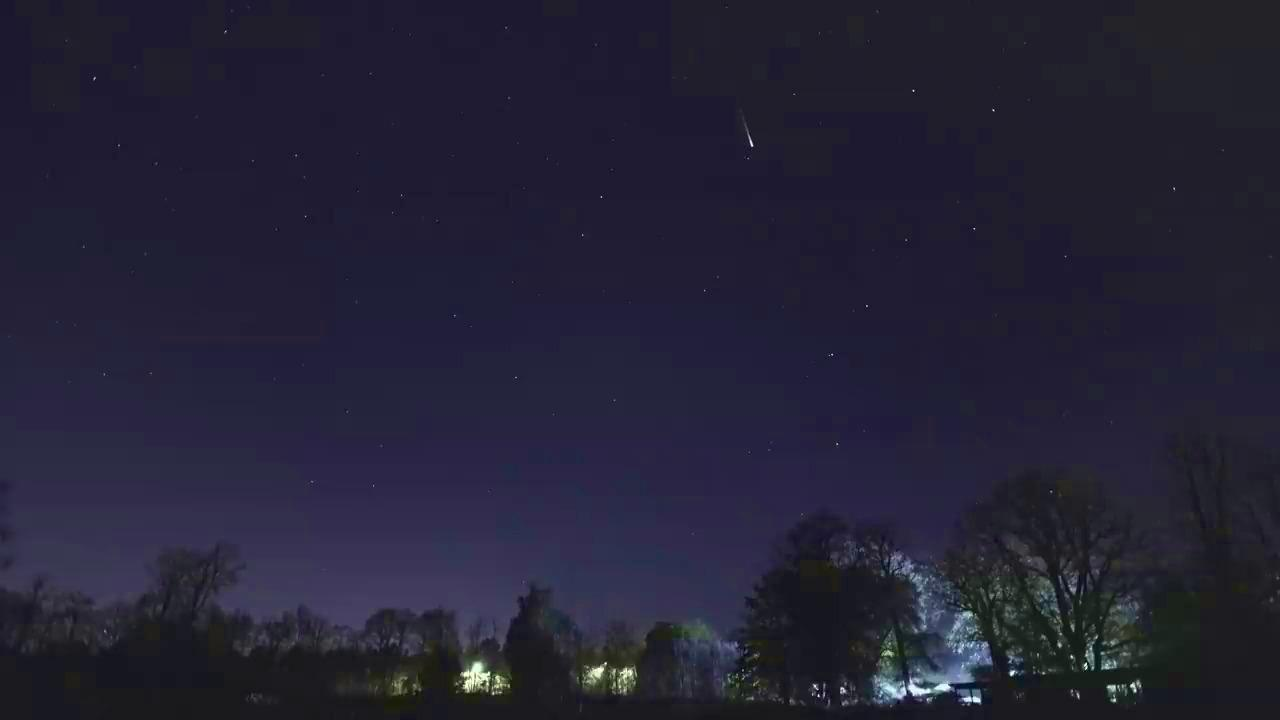meteorite: (686, 110, 805, 152)
